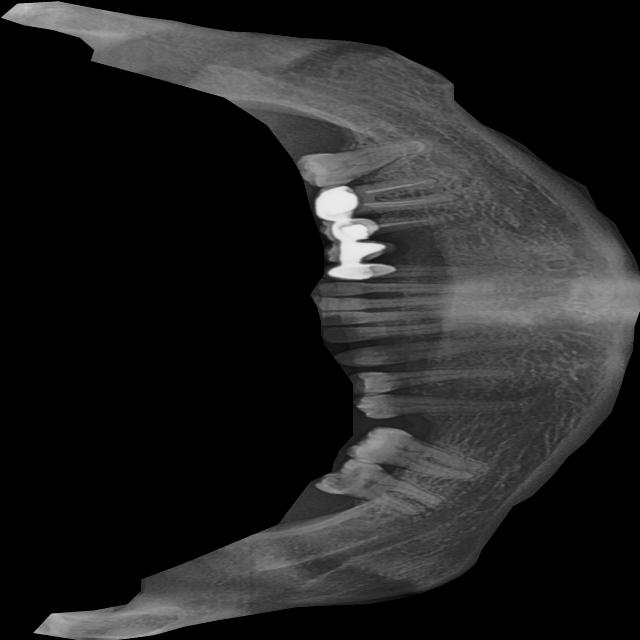mandibula: (1, 0, 640, 640)
